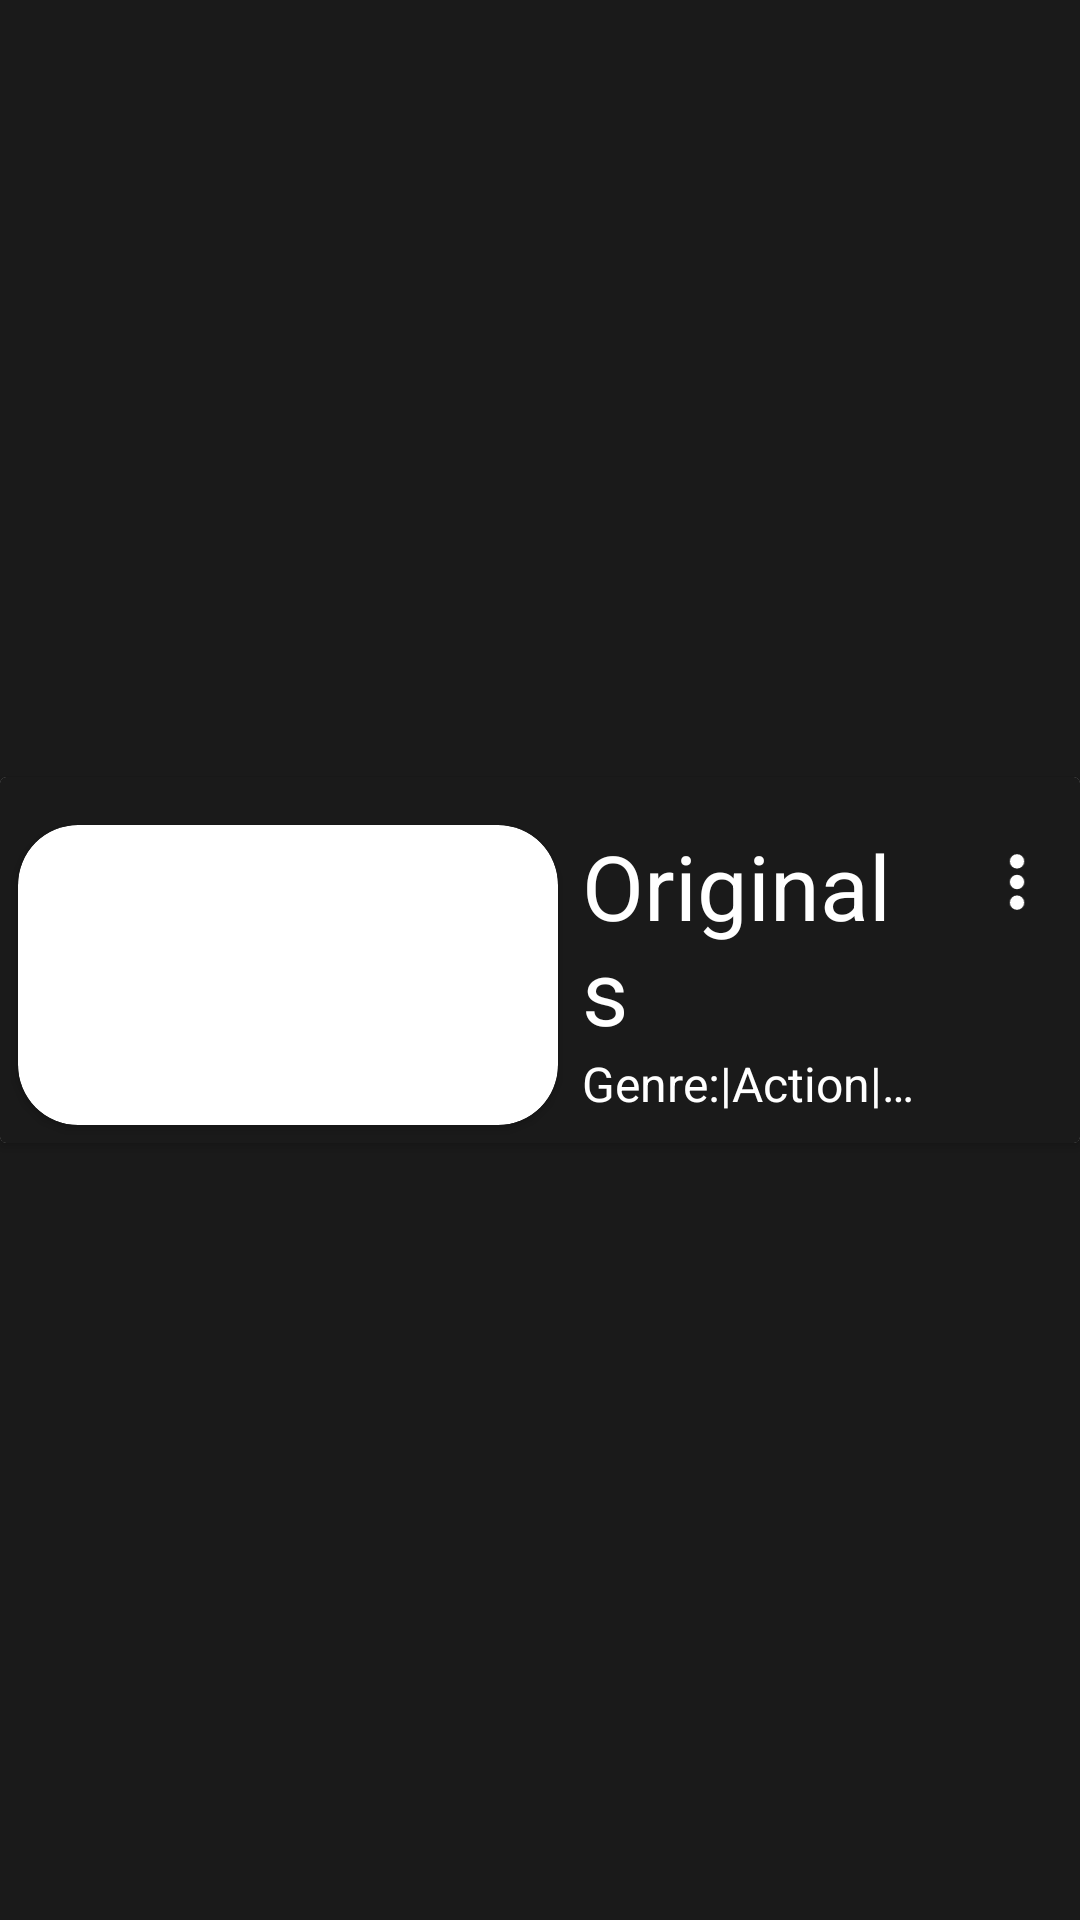

Icons on this 1080w x 1920h Android screen, each with the point to tap as point (x, y):
ellipsis vertical: point (1017, 882)
